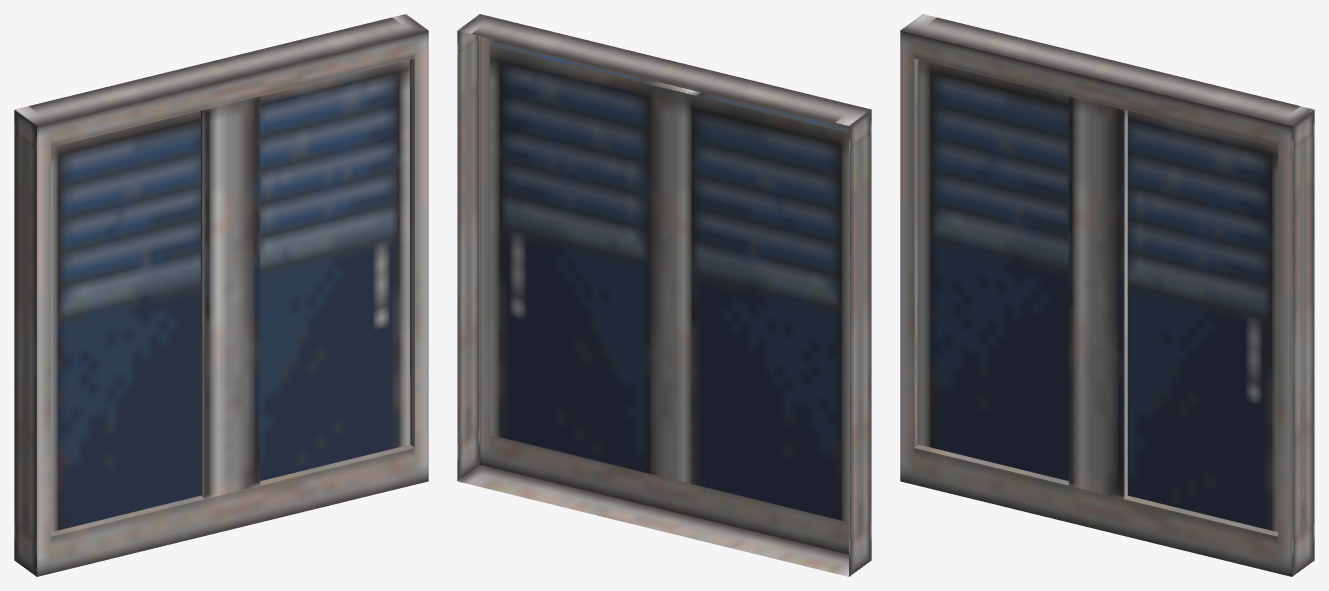
Rendered from Poly_SF_Outside_B_Window_10.obj.
The picture shows the model from 3 angles, left to right: view 1: azimuth 30°, elevation 25°; view 2: azimuth 150°, elevation 25°; view 3: azimuth 330°, elevation 25°; orthographic projection.
Parts seen in each view (by area): view 1: Cube.001; view 2: Cube.001; view 3: Cube.001.
Boxes of the visible parts, <box> form: Cube.001: <box>14,14,428,576</box>; Cube.001: <box>457,14,871,576</box>; Cube.001: <box>900,14,1314,576</box>.
Bounding box in the file's own units: 1 × 1.1 × 0.1.
Materials: 1 (1 with a texture image).
